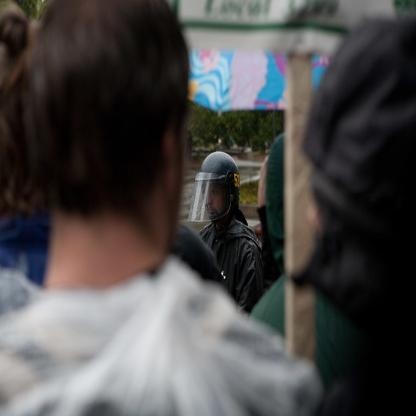Helmet: (192, 151, 242, 230)
